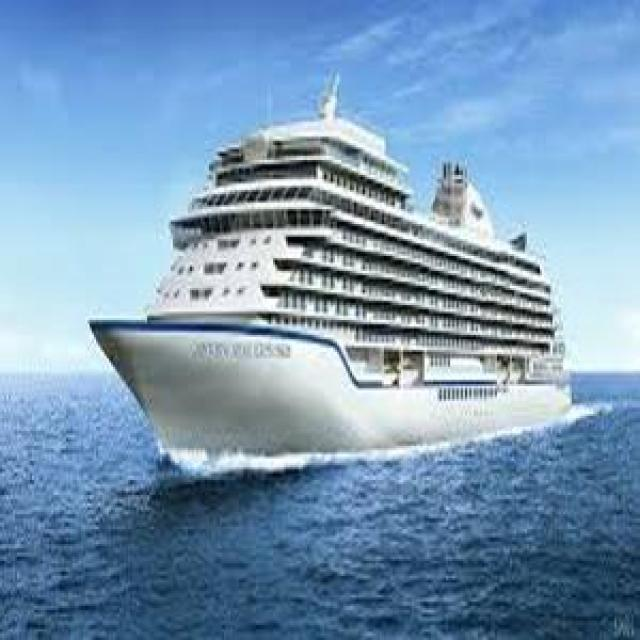passenger ship: (92, 103, 575, 456)
